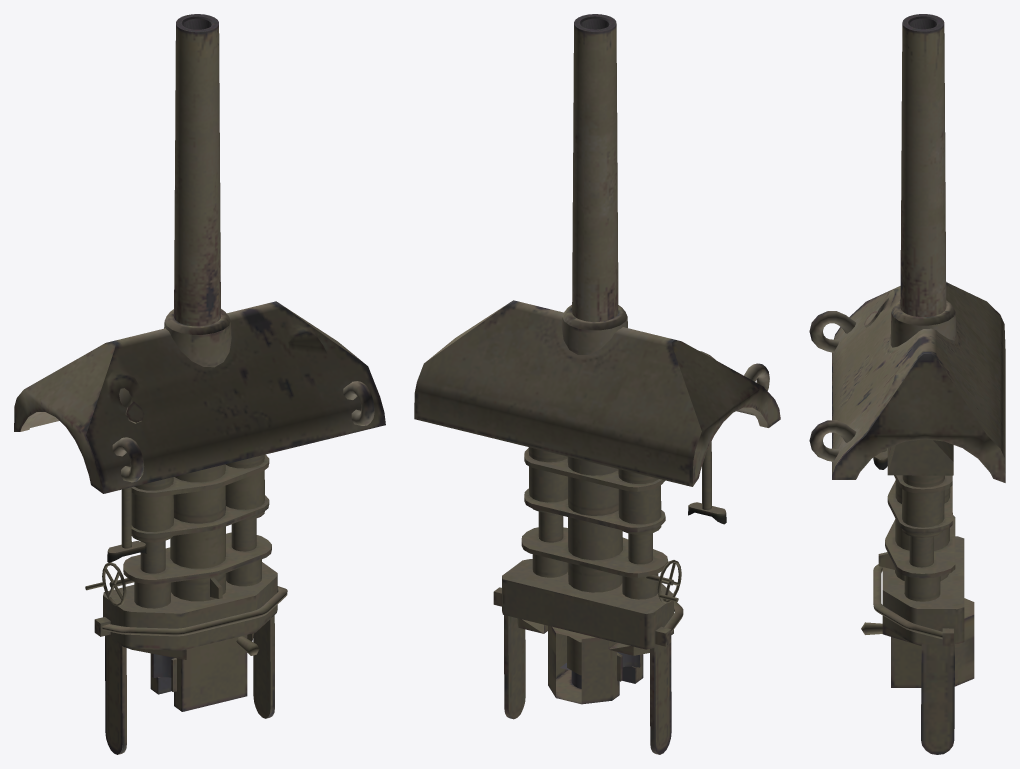
File: Gun_07.glb
3 views of the same model, side by side, from view 1: azimuth 30°, elevation 25°; view 2: azimuth 150°, elevation 25°; view 3: azimuth 270°, elevation 25° (orthographic). The views are drawn at different scales.
Visible parts, largest first — view 1: set_0_group_0; view 2: set_0_group_0; view 3: set_0_group_0.
Boxes of the visible parts, x1=… form: set_0_group_0: x1=14, y1=14, x2=385, y2=754; set_0_group_0: x1=414, y1=14, x2=780, y2=754; set_0_group_0: x1=809, y1=14, x2=1005, y2=754.
Size of the model in its own units: 1.18 by 2.87 by 0.7329.
1 material, 1 textured.
